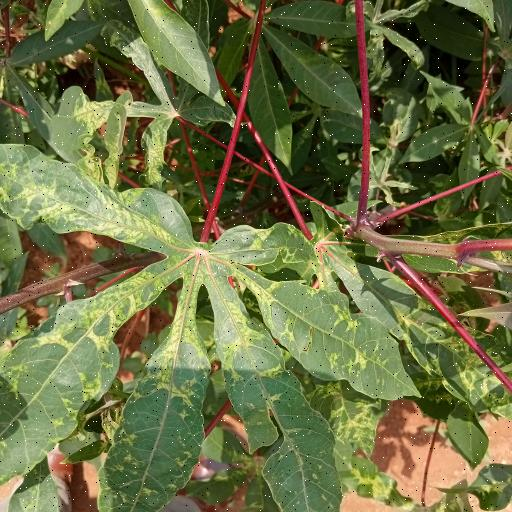Cassava_Healthy: (4, 142, 396, 511)
